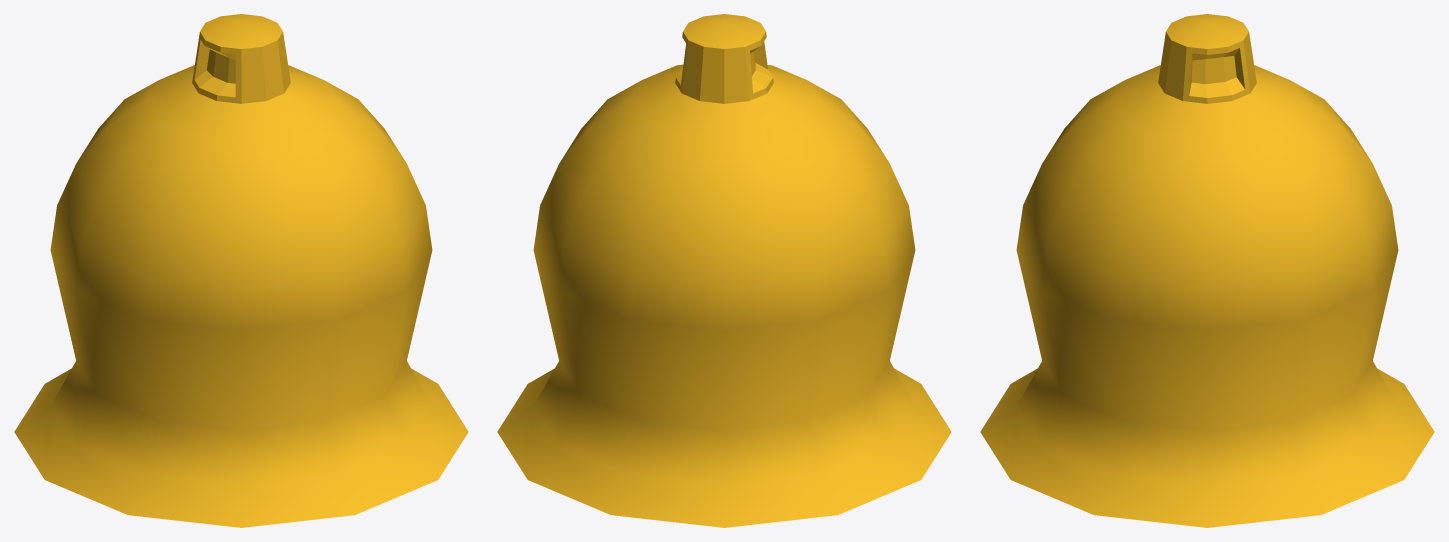
File: MOD_Cloche.FBX
The picture shows the model from 3 angles, left to right: view 1: azimuth 30°, elevation 25°; view 2: azimuth 150°, elevation 25°; view 3: azimuth 270°, elevation 25°; orthographic projection.
Parts seen in each view (by area): view 1: MOD_cloche; view 2: MOD_cloche; view 3: MOD_cloche.
Part boxes in pixels (box(x1,y1,x2,y2)): MOD_cloche: box(14, 14, 468, 527); MOD_cloche: box(497, 14, 951, 527); MOD_cloche: box(980, 14, 1434, 527).
Size of the model in its own units: 0.4444 by 0.4422 by 0.4444.
